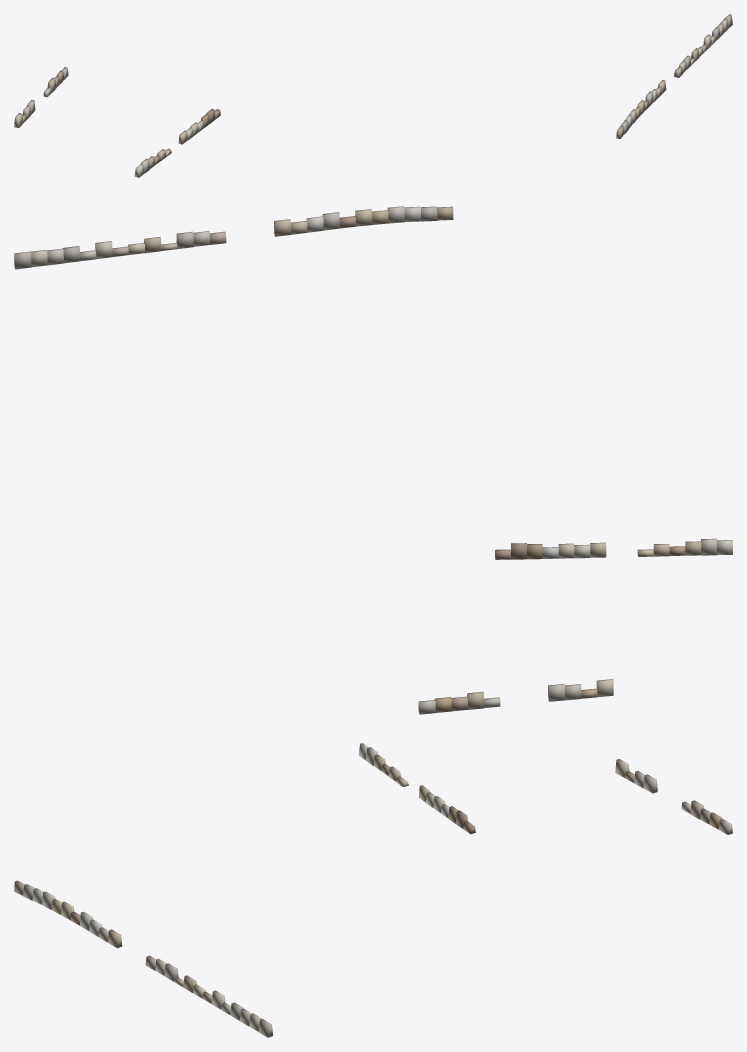
File: farm_-17_-26_collision.glb
3 views of the same model, one above another, from view 1: azimuth 30°, elevation 25°; view 2: azimuth 150°, elevation 25°; view 3: azimuth 270°, elevation 25° (orthographic). The views are drawn at different scales.
Visible parts, largest first — view 1: geometry_0; view 2: geometry_0; view 3: geometry_0.
Boxes of the visible parts, left/top/right/bottom form: geometry_0: left=14, top=14, right=732, bottom=177; geometry_0: left=14, top=206, right=732, bottom=714; geometry_0: left=14, top=743, right=732, bottom=1037.
Bounding box in the file's own units: 87.61 × 13.62 × 76.35.
